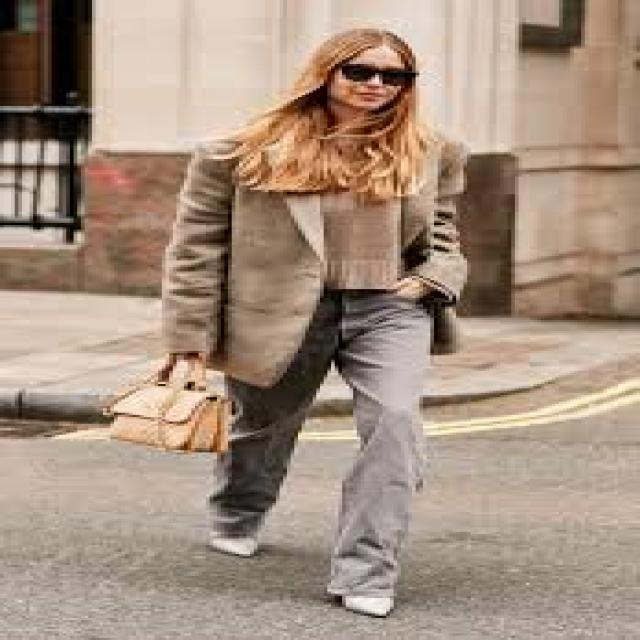pants: (203, 292, 444, 592)
